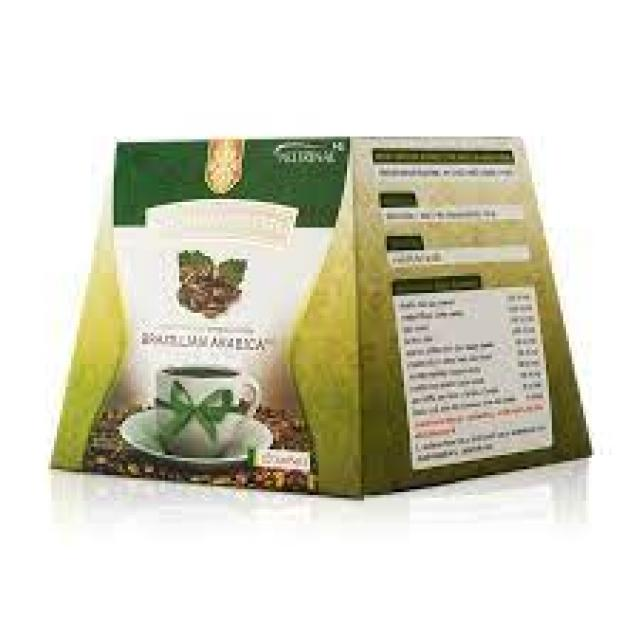coffee: (54, 131, 594, 503)
